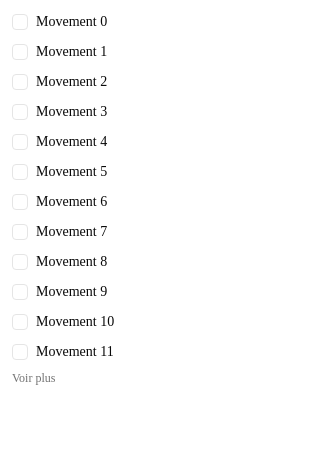
Test: MovementFilters › reveals the rest of the list when clicking 'Voir plus'
Click the button "Voir plus".
click(34, 378)  # box top-left (12, 370), bottom-right (56, 386)
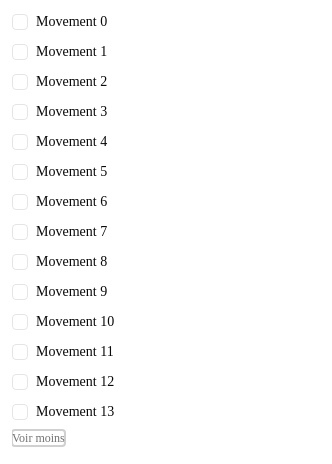
Result: the button "Voir moins" is shown at top-left (12, 430), bottom-right (65, 446)
